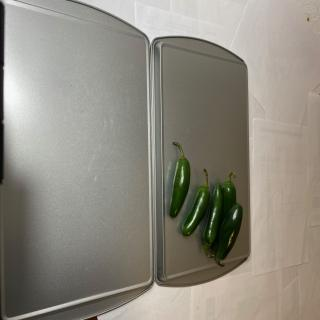Chilli: (169, 140, 243, 267)
Tomato: (181, 168, 210, 237), (213, 203, 243, 266), (169, 142, 190, 218), (202, 183, 222, 258), (221, 172, 236, 220)
